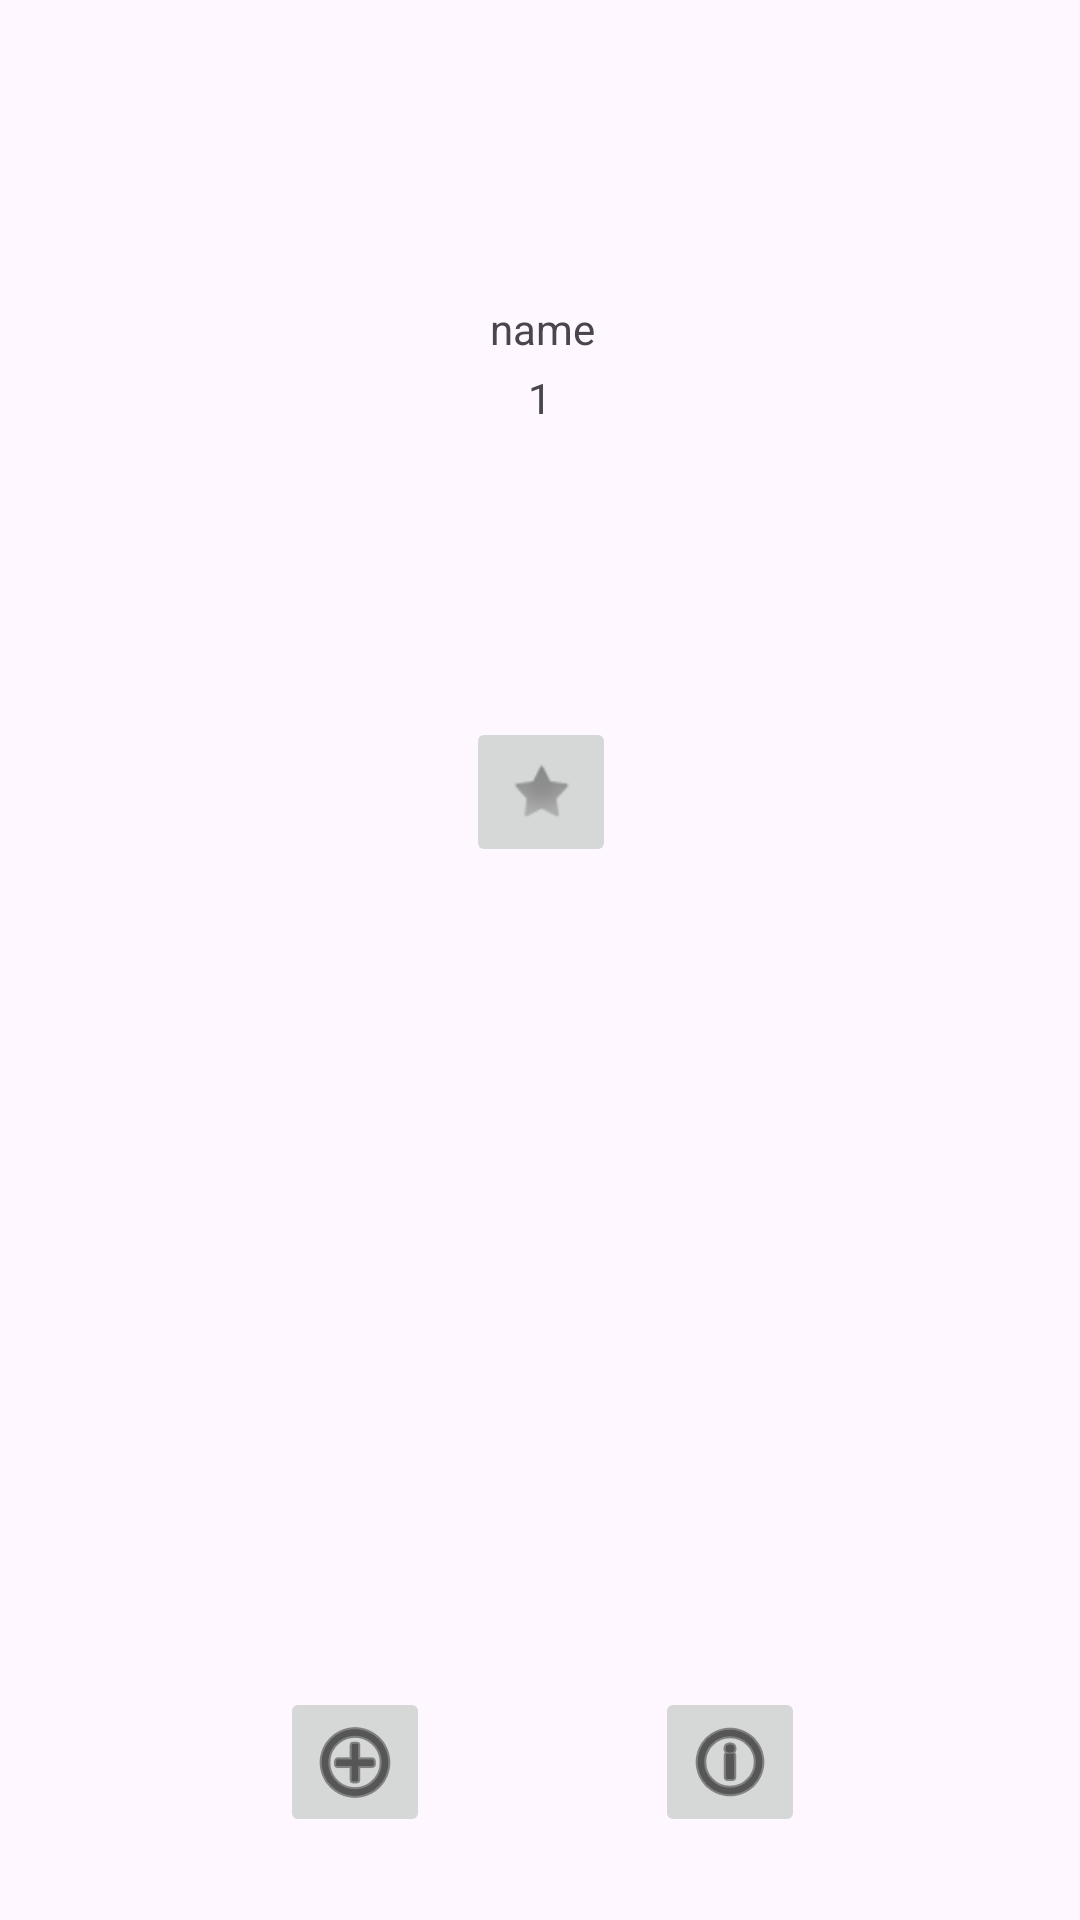

Screen size 1080 × 1920. Icon name, then its center in pixels as [x,y]:
Ajout: [355,1762]
Info: [730,1762]
star off: [541,792]
